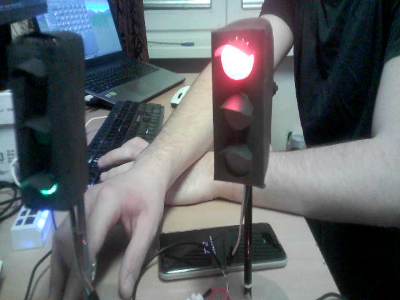trafficlight_green: (16, 44, 69, 201)
trafficlight_red: (214, 30, 262, 179)
